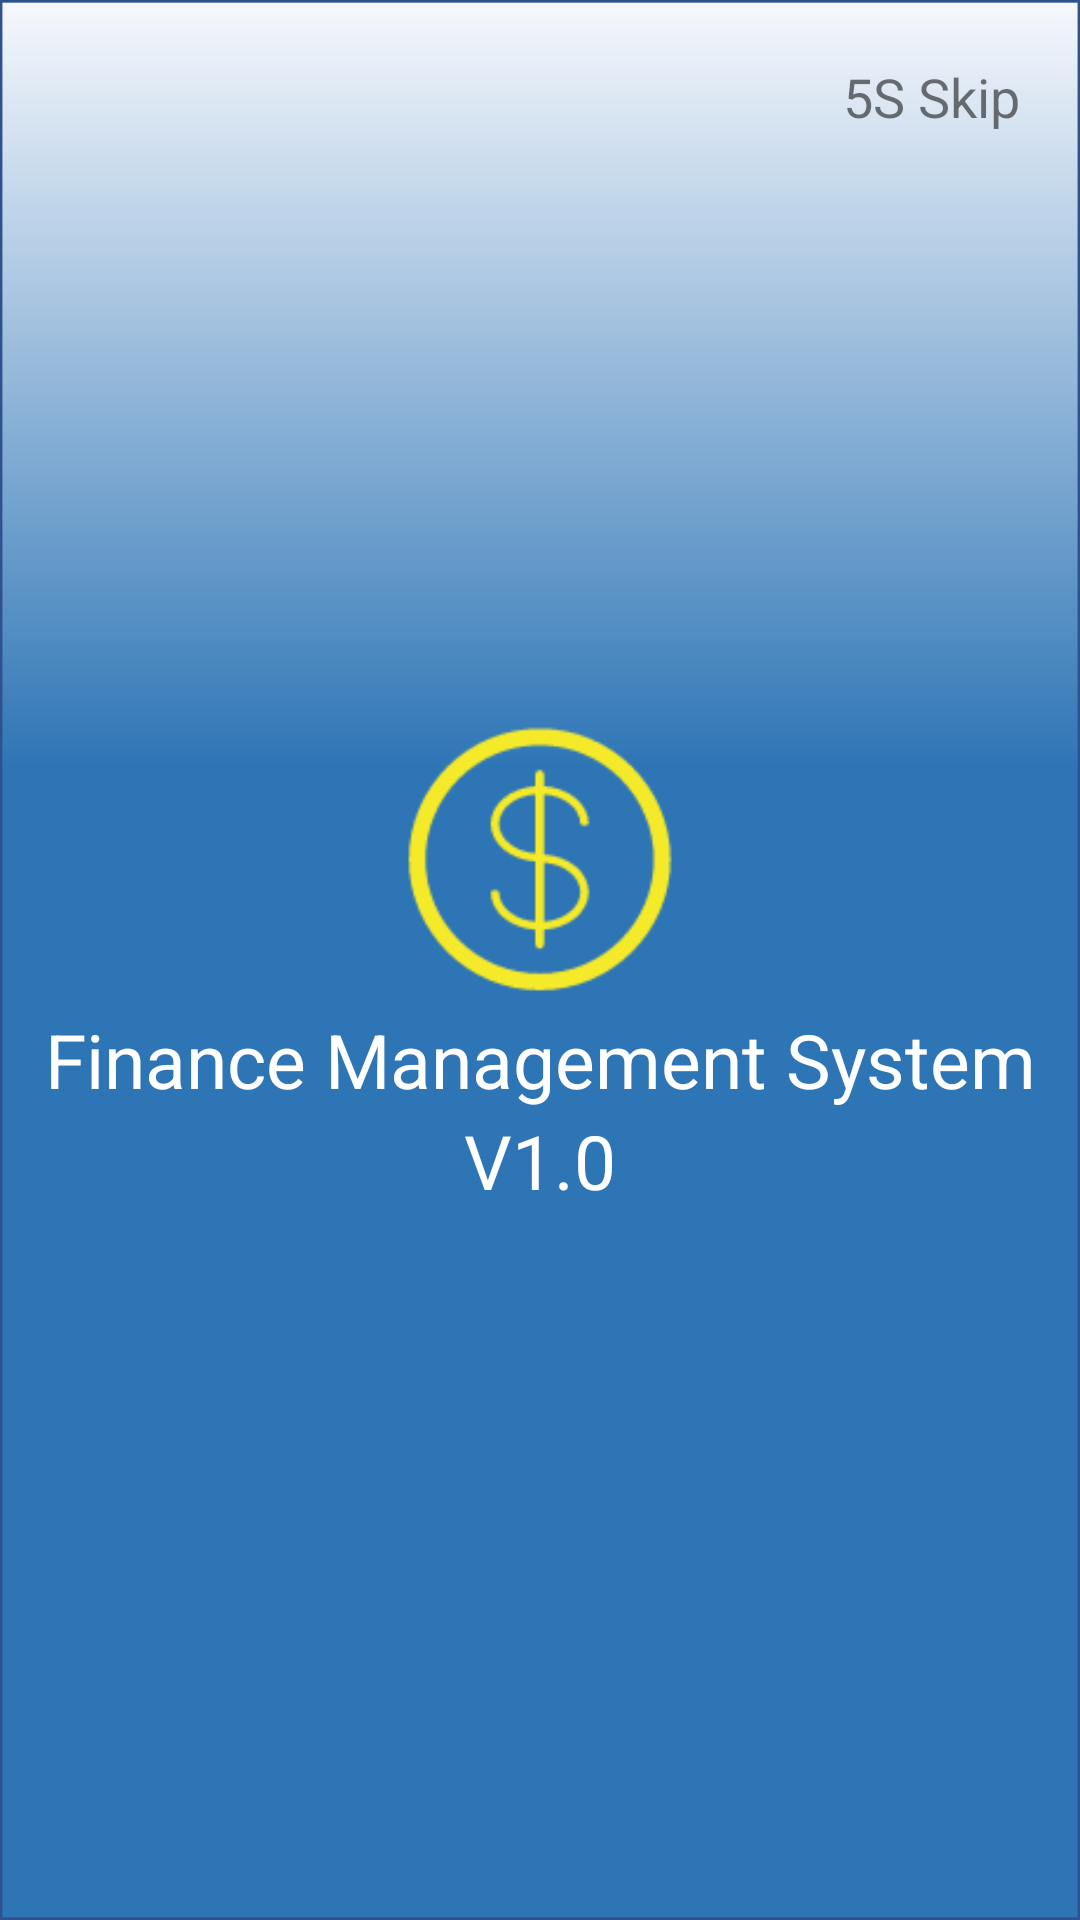

Icon click points for this 1080×1920 phone screenshot, format [x,y]:
financial data: [540,859]
